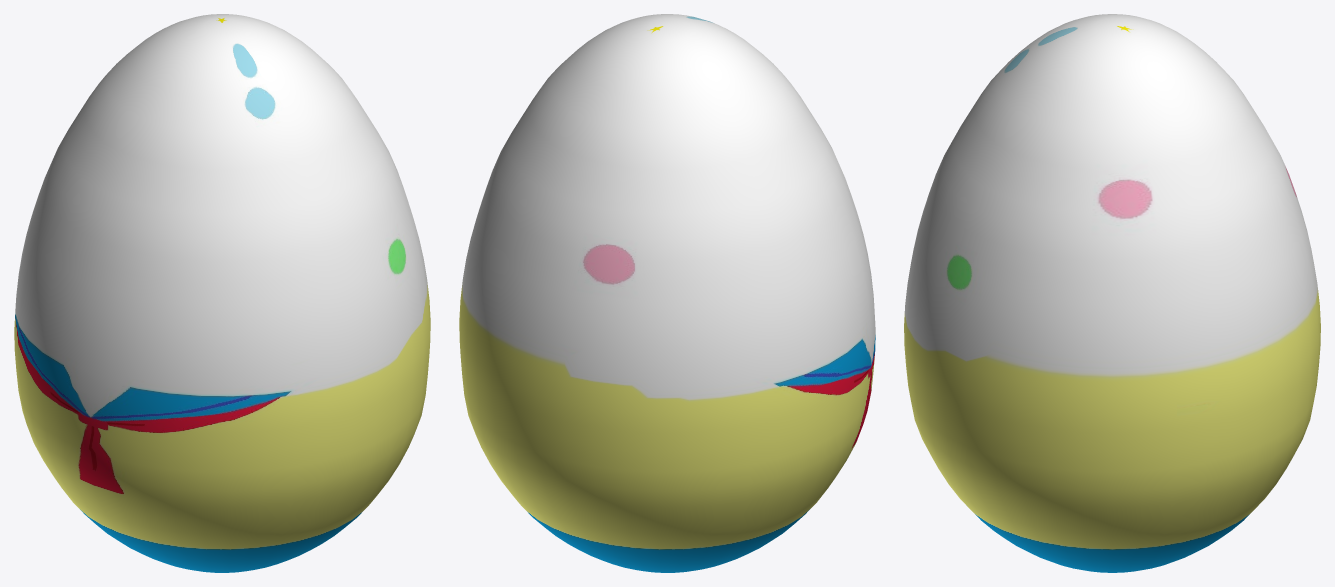
File: satuki_2.fbx
3 views of the same model, side by side, from view 1: azimuth 30°, elevation 25°; view 2: azimuth 150°, elevation 25°; view 3: azimuth 270°, elevation 25° (orthographic).
Visible parts, largest first — view 1: pSphere15; view 2: pSphere15; view 3: pSphere15.
Part boxes in pixels (x1=…): pSphere15: x1=14, y1=14, x2=430, y2=572; pSphere15: x1=459, y1=14, x2=875, y2=572; pSphere15: x1=904, y1=14, x2=1320, y2=572.
Bounding box in the file's own units: 2.11 × 2.96 × 2.11.
Materials: 1 (1 with a texture image).
